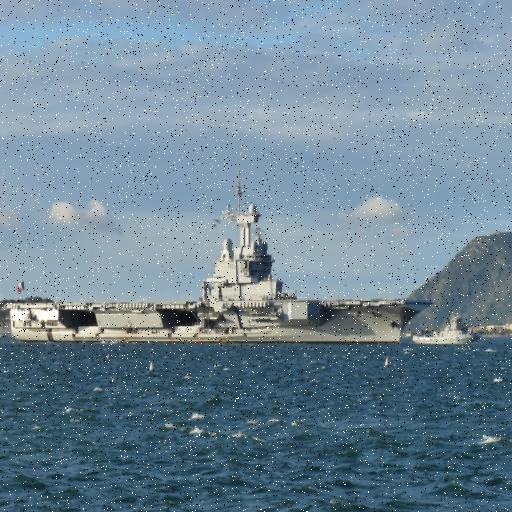Portanaves: (1, 168, 435, 350)
